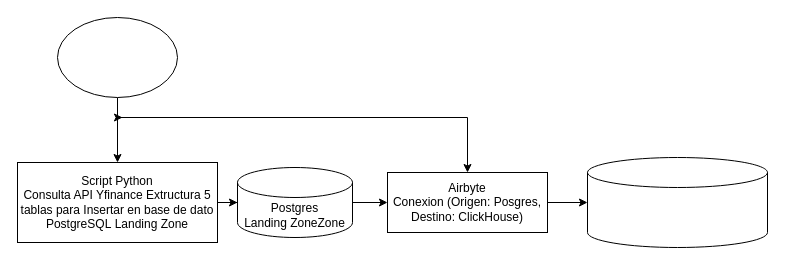
This 785x265 diagram has some shape labels left out. The shapes that lost their labels are listed below. From the top down, each one's box as (x1, y1, x2, y2) in pixels, then its label:
(56, 16, 178, 98): AirFlow
(586, 156, 768, 248): ClickHouse Row, transformed, Validation (DBT)
